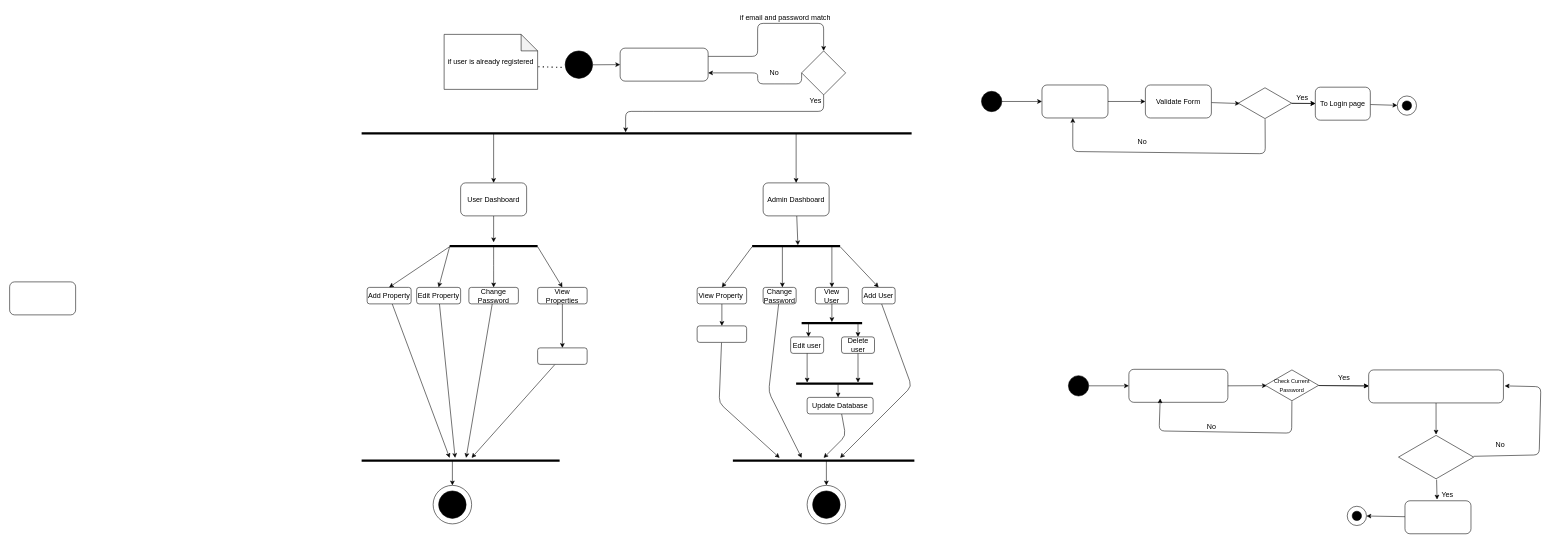
The diagram is 1555 pixels wide and 543 high, and some of its shapes have lost their labels. The shapes that lost their labels are listed below. From the top down, each one's box as (x1, y1, x2, y2) in pixels, then its label:
(620, 48, 708, 81): Enter email and password
(1041, 84, 1108, 118): Submit Registration Form
(697, 325, 747, 342): Update Property
(537, 347, 587, 364): Send messages.
(1128, 369, 1228, 402): Enter Current, New and Confirm password ,
(1368, 369, 1503, 403): Process New and Confirm password
(1398, 434, 1474, 480): Match password
(1404, 500, 1471, 534): update Successfully
